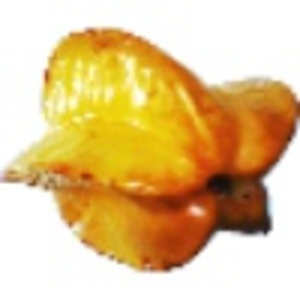carambola: (1, 26, 300, 275)
